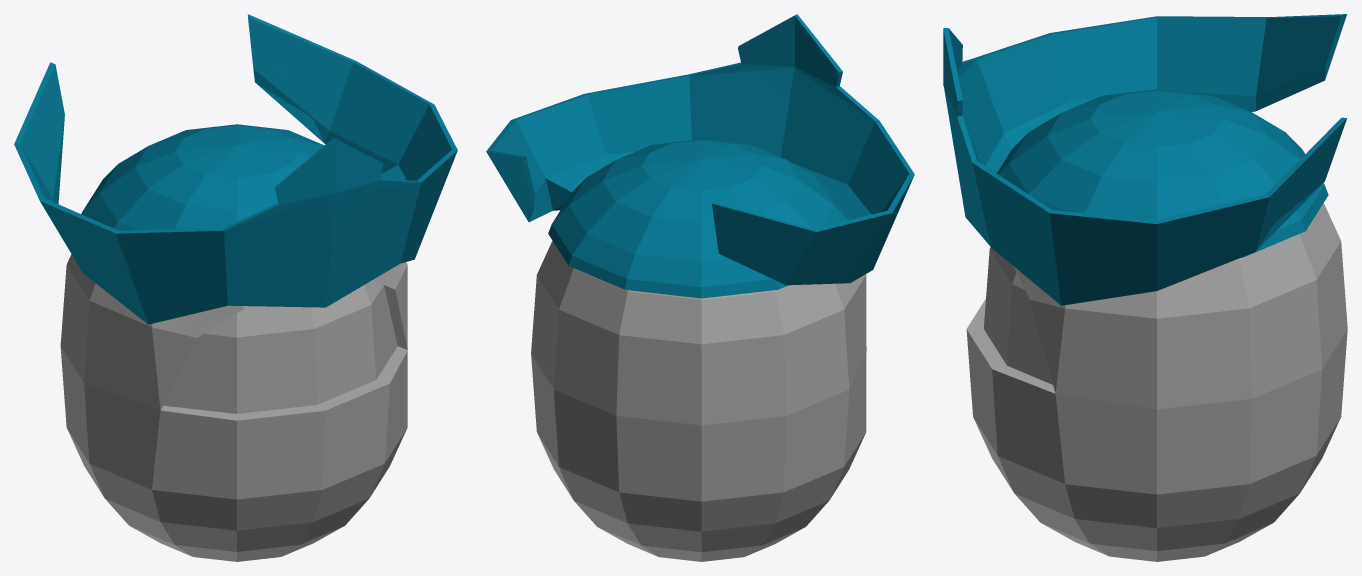
File: SM_Character_SMALLSword_1.fbx
3 renders of one model, left to right at view 1: azimuth 30°, elevation 25°; view 2: azimuth 150°, elevation 25°; view 3: azimuth 270°, elevation 25°, orthographic. The views are drawn at different scales.
Visible parts, largest first — view 1: Earth_pSphere2; view 2: Earth_pSphere2; view 3: Earth_pSphere2.
Part boxes in pixels (left/top/right/bottom): Earth_pSphere2: left=14, top=14, right=457, bottom=561; Earth_pSphere2: left=486, top=14, right=914, bottom=561; Earth_pSphere2: left=943, top=14, right=1347, bottom=561.
Size of the model in its own units: 2.58 by 2.99 by 2.12.
